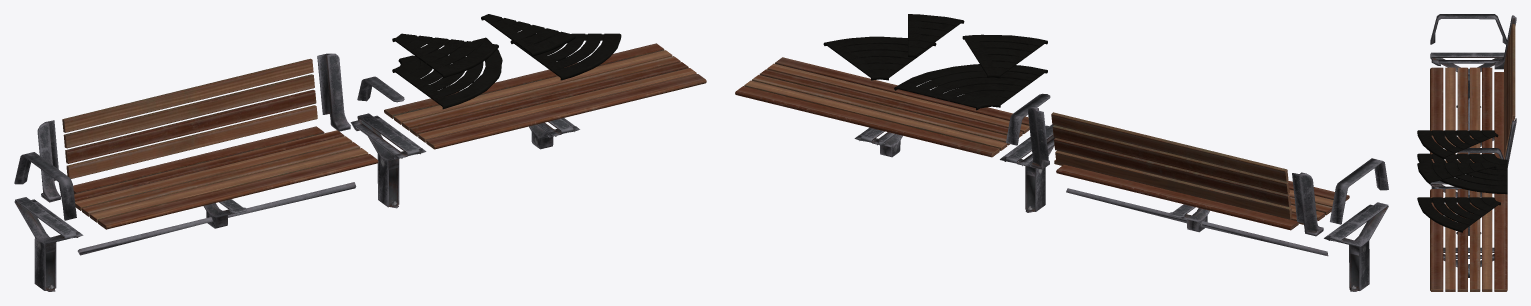
Rendered from modular_street_seating.glb.
3 renders of one model, left to right at view 1: azimuth 30°, elevation 25°; view 2: azimuth 150°, elevation 25°; view 3: azimuth 270°, elevation 25°, orthographic. The views are drawn at different scales.
Visible parts, largest first — view 1: seat, connector_60, legs_double, crossbar; view 2: seat, connector_60, crossbar, legs_double; view 3: seat, connector_60, legs_double, crossbar.
Boxes of the visible parts, left/top/right/bottom form: seat: left=62, top=43, right=706, bottom=229; connector_60: left=392, top=14, right=621, bottom=109; legs_double: left=14, top=113, right=579, bottom=291; crossbar: left=14, top=53, right=404, bottom=255; seat: left=735, top=57, right=1349, bottom=230; connector_60: left=823, top=14, right=1047, bottom=110; crossbar: left=1006, top=93, right=1388, bottom=256; legs_double: left=854, top=124, right=1388, bottom=291; seat: left=1430, top=24, right=1515, bottom=291; connector_60: left=1417, top=130, right=1507, bottom=232; legs_double: left=1430, top=52, right=1504, bottom=277; crossbar: left=1430, top=14, right=1516, bottom=194.
Size of the model in its own units: 4.34 by 0.9499 by 0.7703.
Materials: 4 (4 with a texture image).
